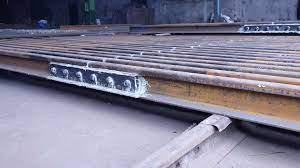insulated joint: (48, 62, 141, 95)
